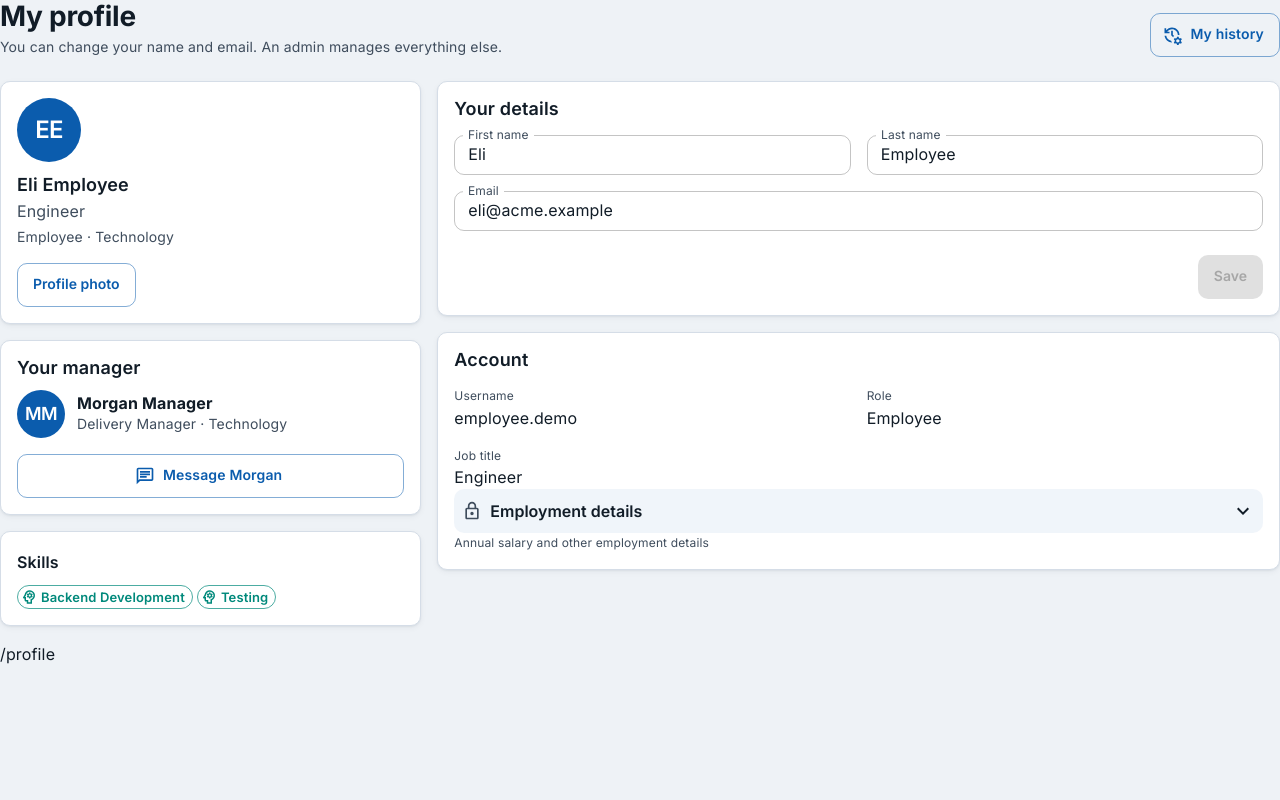
Test: My profile › Profile photo opens the photo dialog
This screenshot has width=1280, height=800.
Click the button "Profile photo".
click(76, 285)  # box top-left (17, 263), bottom-right (136, 307)
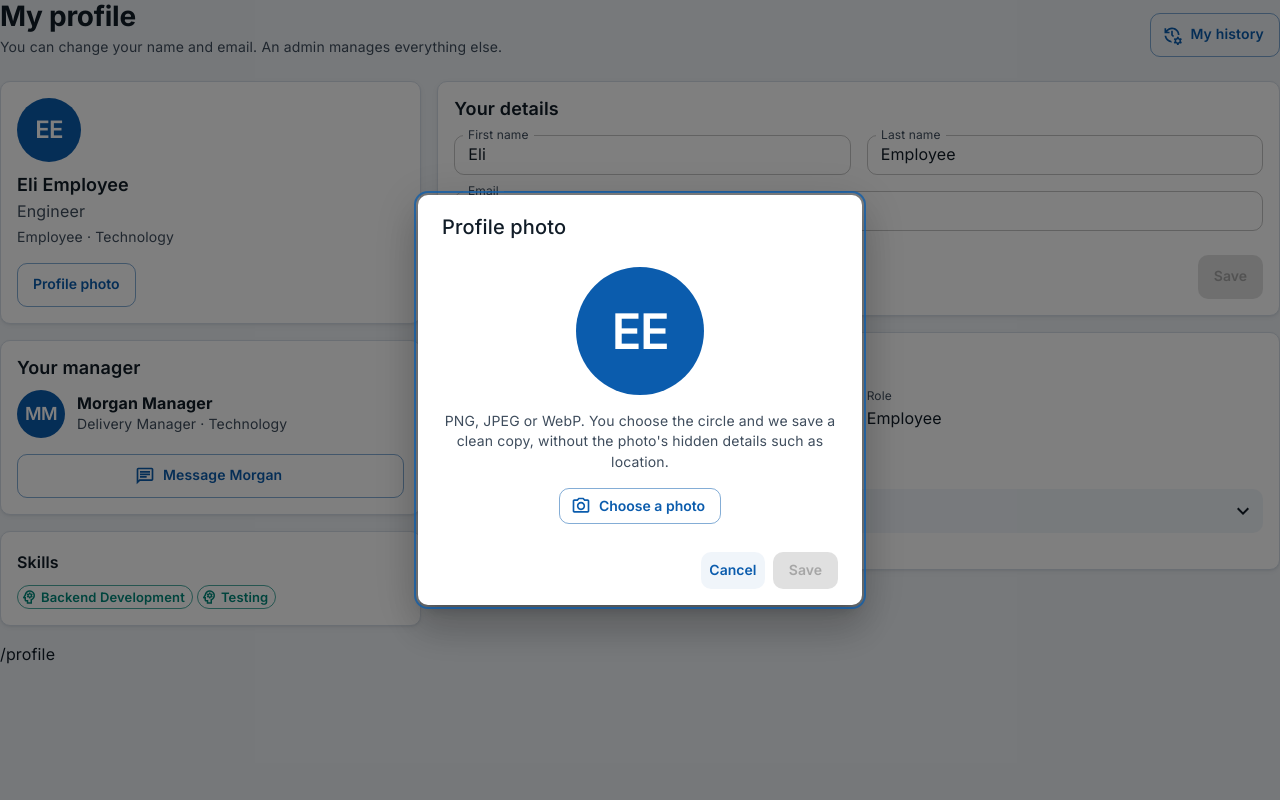
Expected: the dialog "Profile photo" is shown, top-left (418, 196), bottom-right (862, 604)
